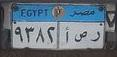2: (47, 26, 55, 44)
3: (24, 25, 34, 44)
8: (35, 26, 45, 45)
9: (14, 25, 23, 44)
alif: (64, 26, 70, 44)
raa: (90, 30, 100, 45)
saad: (74, 30, 88, 44)
